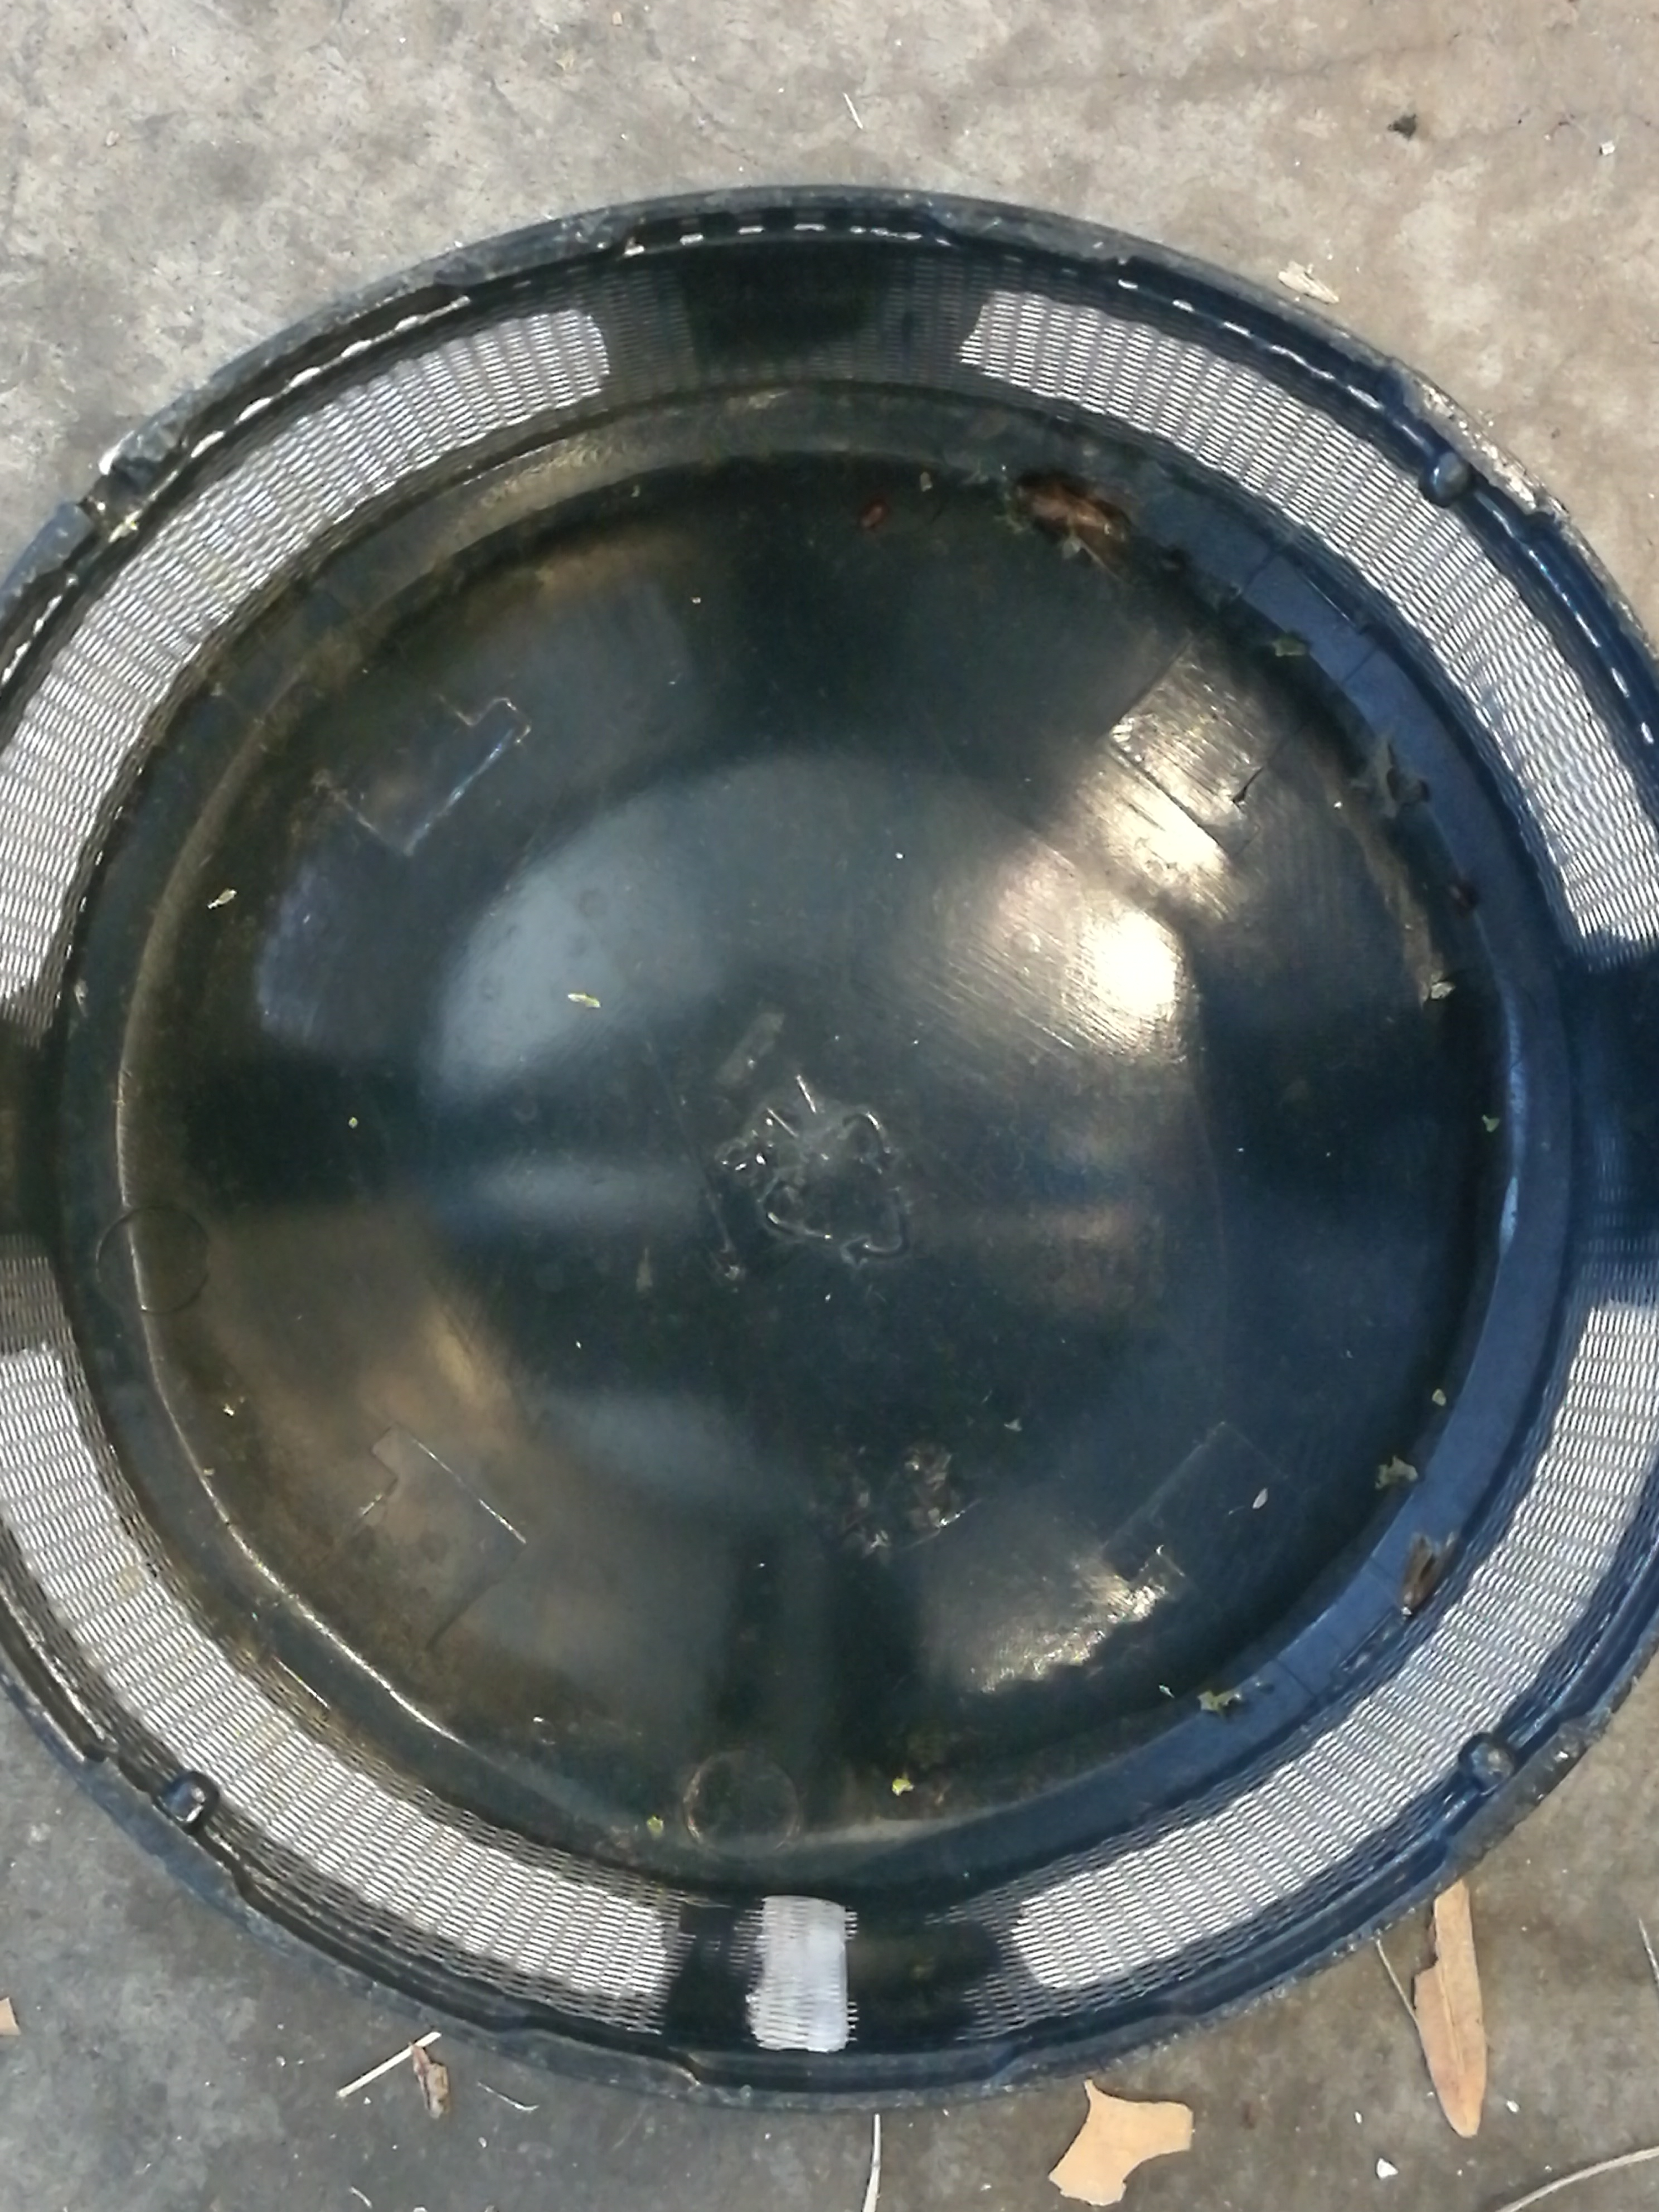beetle: (1032, 488, 1112, 529)
moth: (1403, 1531, 1460, 1613)
